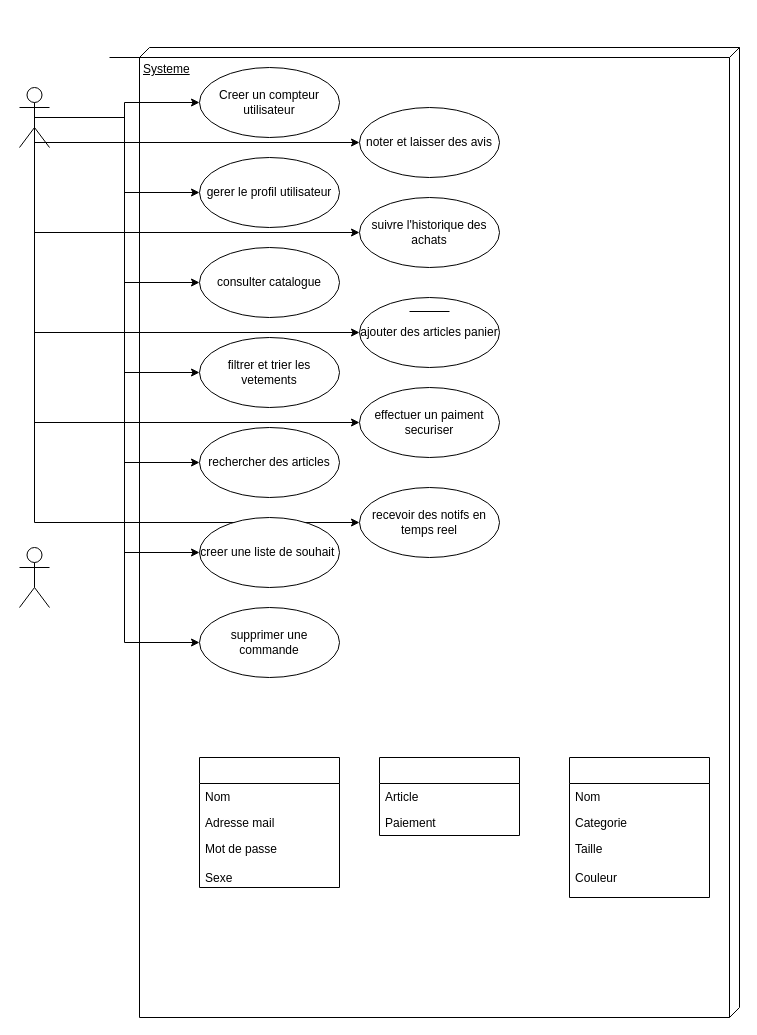
Image size: 757x1035. Some labels were removed from this diagram. Each missing label, with the box of its shape:
Admin: (18, 546, 50, 608)
Client: (18, 86, 50, 148)
Panier: (378, 756, 520, 836)
Utilisateur: (198, 756, 340, 888)
Vetements: (568, 756, 710, 898)
